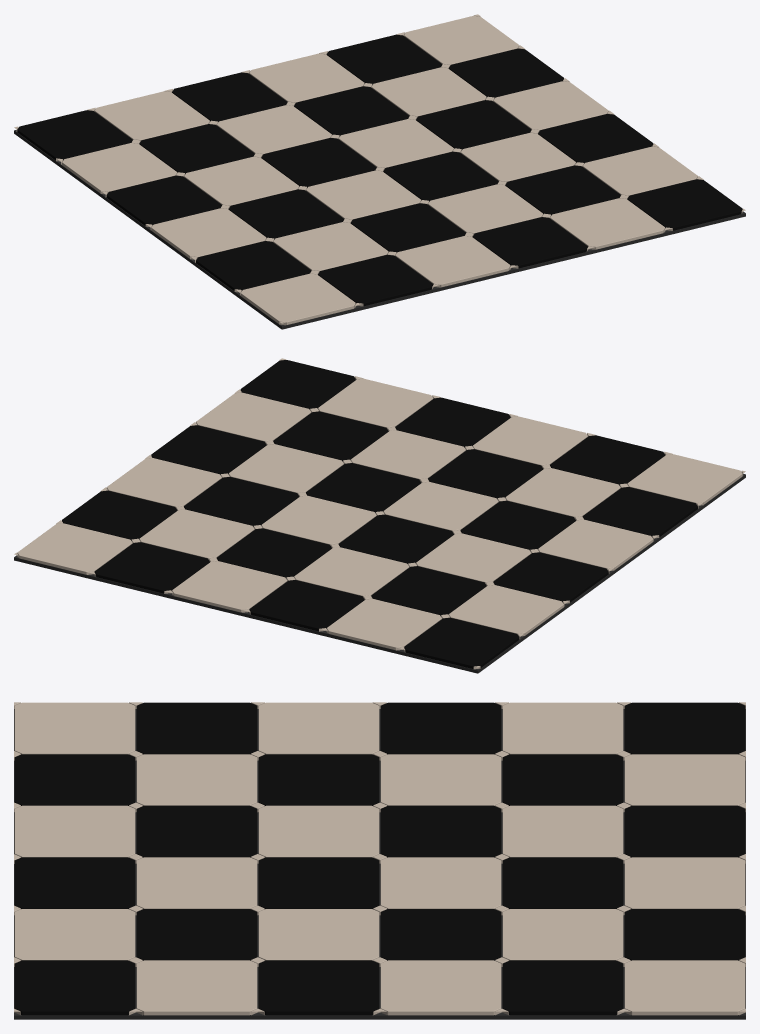
Rendered from SM_Floor_Tile_01.fbx.
3 renders of one model, top to bottom at view 1: azimuth 30°, elevation 25°; view 2: azimuth 150°, elevation 25°; view 3: azimuth 270°, elevation 25°, orthographic. The views are drawn at different scales.
Visible parts, largest first — view 1: Plane.034, Cube.054; view 2: Plane.034, Cube.054; view 3: Plane.034, Cube.054.
Boxes of the visible parts, x1=… form: Plane.034: x1=17, y1=16, x2=742, y2=324; Cube.054: x1=14, y1=130, x2=745, y2=329; Plane.034: x1=17, y1=360, x2=742, y2=668; Cube.054: x1=14, y1=474, x2=745, y2=673; Plane.034: x1=14, y1=702, x2=745, y2=1015; Cube.054: x1=14, y1=709, x2=745, y2=1019.
Bounding box in the file's own units: 400 × 5 × 400.
